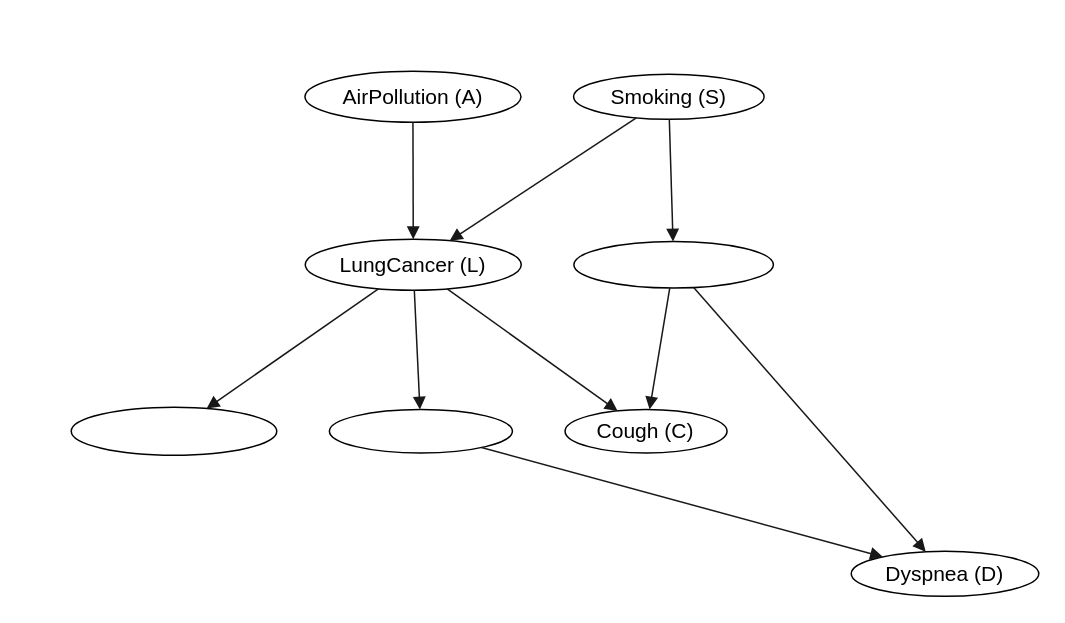
Image size: 1065x623. Some labels were removed from this diagram. Each missing label, with the centre of its shape:
"Bronchitis (B)" goes at (672,264).
"ChestXRay (X)" goes at (173,430).
"Fatigue (F)" goes at (420,430).
